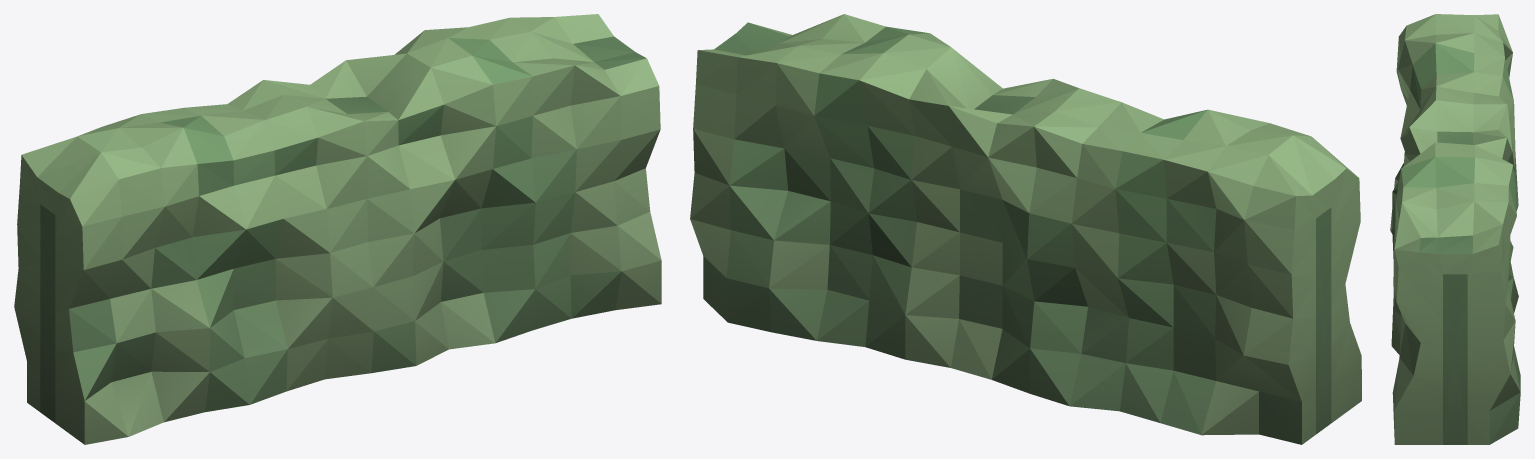
The model's file is hedge.glb.
3 views of the same model, side by side, from view 1: azimuth 30°, elevation 25°; view 2: azimuth 150°, elevation 25°; view 3: azimuth 270°, elevation 25° (orthographic). The views are drawn at different scales.
Visible parts, largest first — view 1: hedge; view 2: hedge; view 3: hedge.
Part boxes in pixels (x1,y1,x2,y2): hedge: (14, 14, 661, 444); hedge: (690, 14, 1361, 444); hedge: (1390, 14, 1520, 444).
Size of the model in its own units: 2 by 0.8968 by 0.4781.
